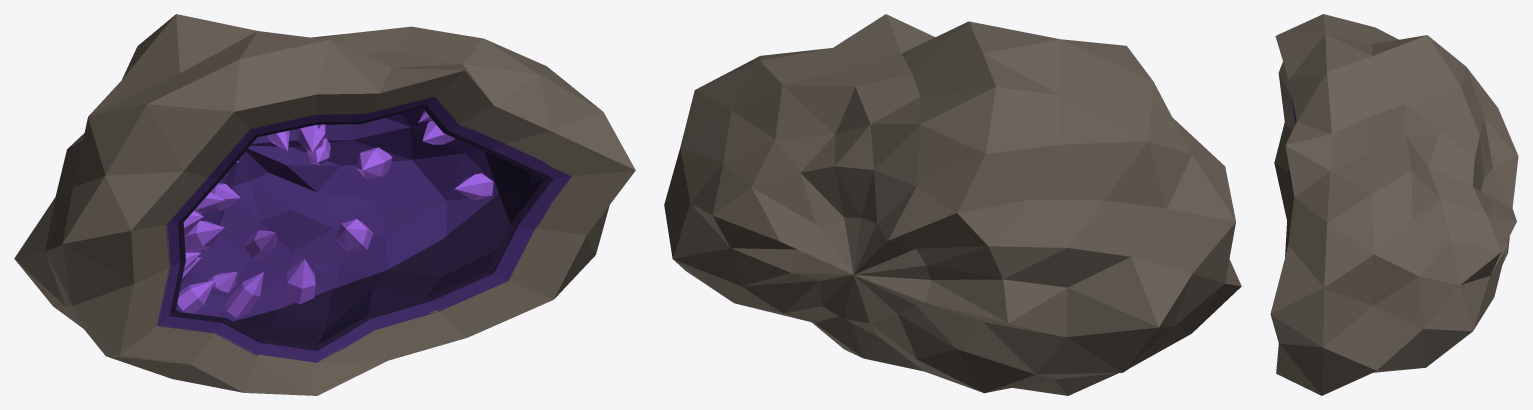
Rendered from Geode_Shell_B.fbx.
3 renders of one model, left to right at view 1: azimuth 30°, elevation 25°; view 2: azimuth 150°, elevation 25°; view 3: azimuth 270°, elevation 25°, orthographic. The views are drawn at different scales.
Visible parts, largest first — view 1: Shell, Lining, Shade, Druse; view 2: Shell; view 3: Shell.
Part boxes in pixels (<box>): Shell: <box>14,14,635,395</box>; Lining: <box>157,96,571,362</box>; Shade: <box>170,104,552,350</box>; Druse: <box>177,110,493,317</box>; Shell: <box>664,14,1241,395</box>; Shell: <box>1270,14,1518,395</box>.
Size of the model in its own units: 3.38 by 1.92 by 1.64.
